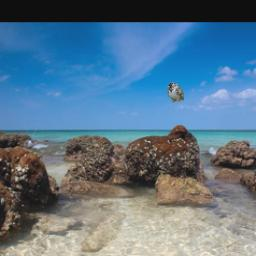Sparrow: (167, 83, 184, 103)
